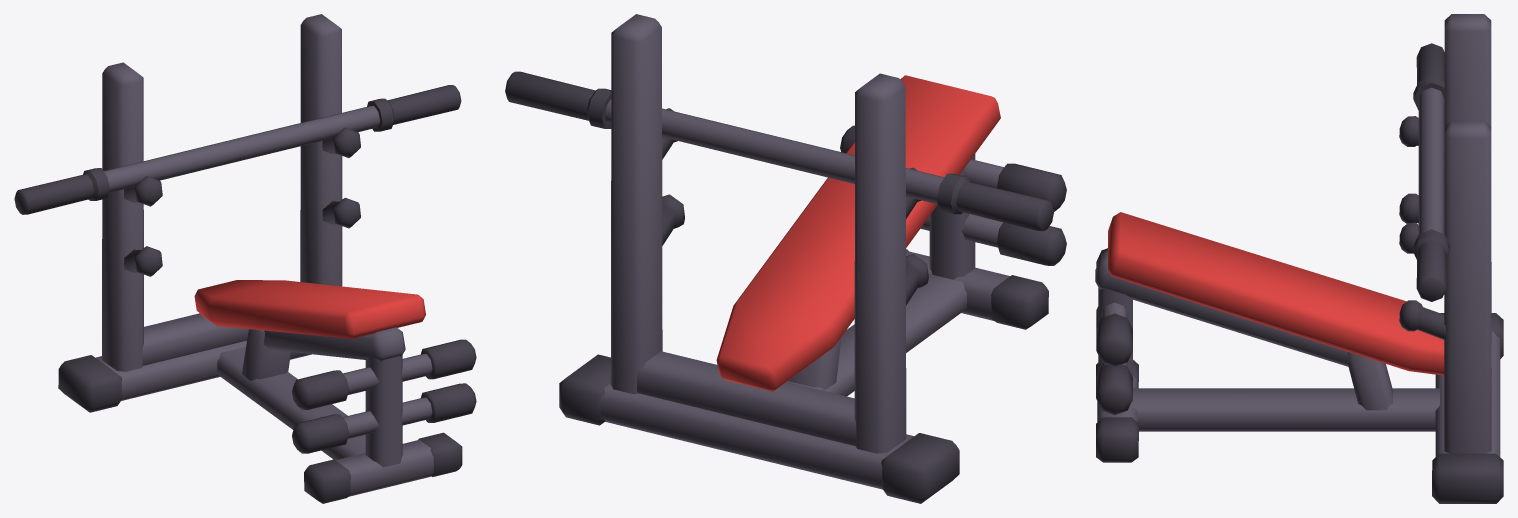
The model's file is Decline_Bench_Press_v01.fbx.
3 renders of one model, left to right at view 1: azimuth 30°, elevation 25°; view 2: azimuth 150°, elevation 25°; view 3: azimuth 270°, elevation 25°, orthographic. The views are drawn at different scales.
Visible parts, largest first — view 1: Decline_Bench_Press_v01; view 2: Decline_Bench_Press_v01; view 3: Decline_Bench_Press_v01.
Boxes of the visible parts, box(x1,y1,x2,y2) form: Decline_Bench_Press_v01: box(14, 14, 476, 503); Decline_Bench_Press_v01: box(505, 14, 1066, 503); Decline_Bench_Press_v01: box(1095, 14, 1503, 503).
Bounding box in the file's own units: 1.55 × 1.09 × 1.14.
Materials: 1 (1 with a texture image).
